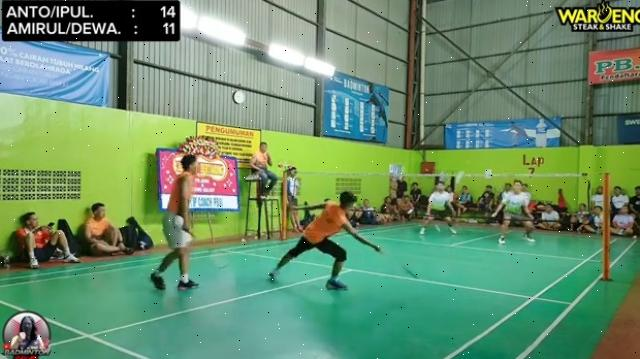Shuttlecock: (454, 169, 468, 187)
